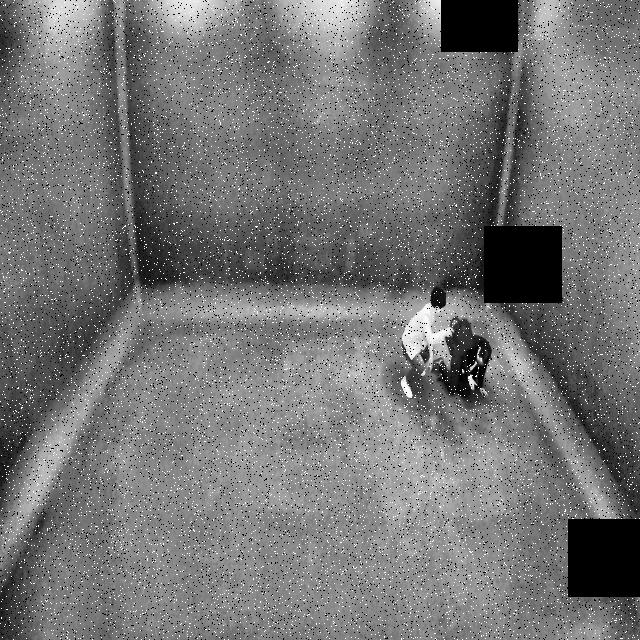assult: (400, 279, 488, 410)
